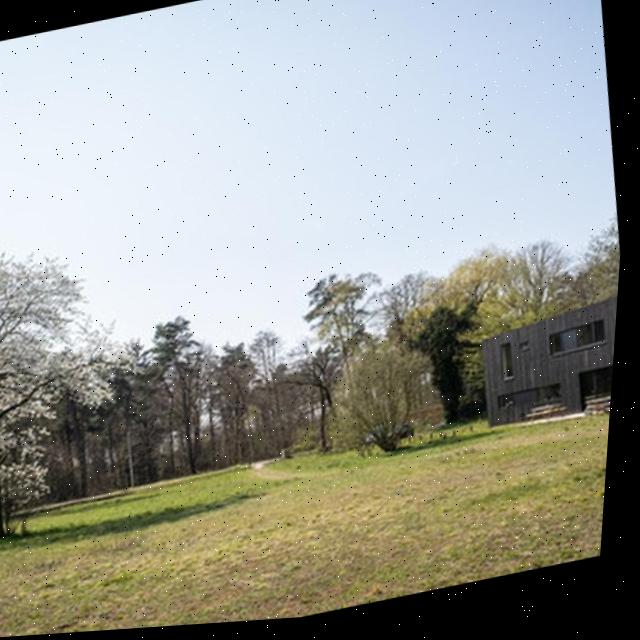building: (463, 273, 619, 445)
